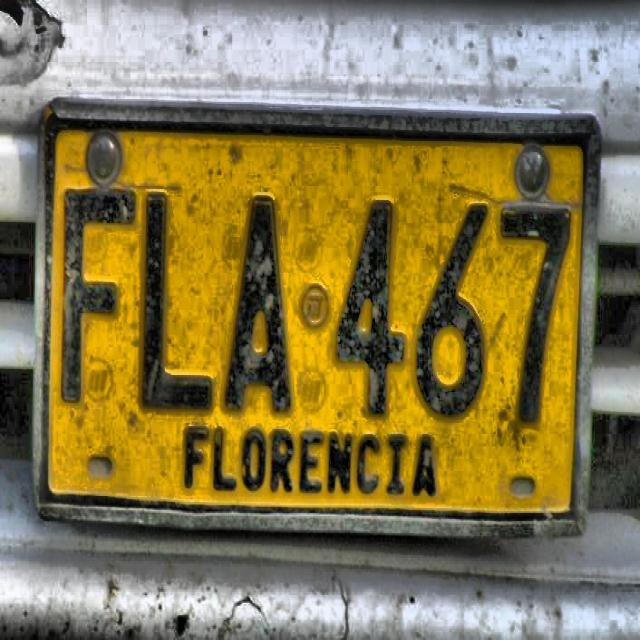plate: (35, 98, 604, 538)
